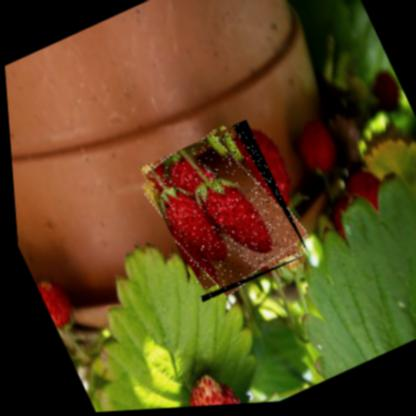strawberry: (133, 119, 307, 307)
